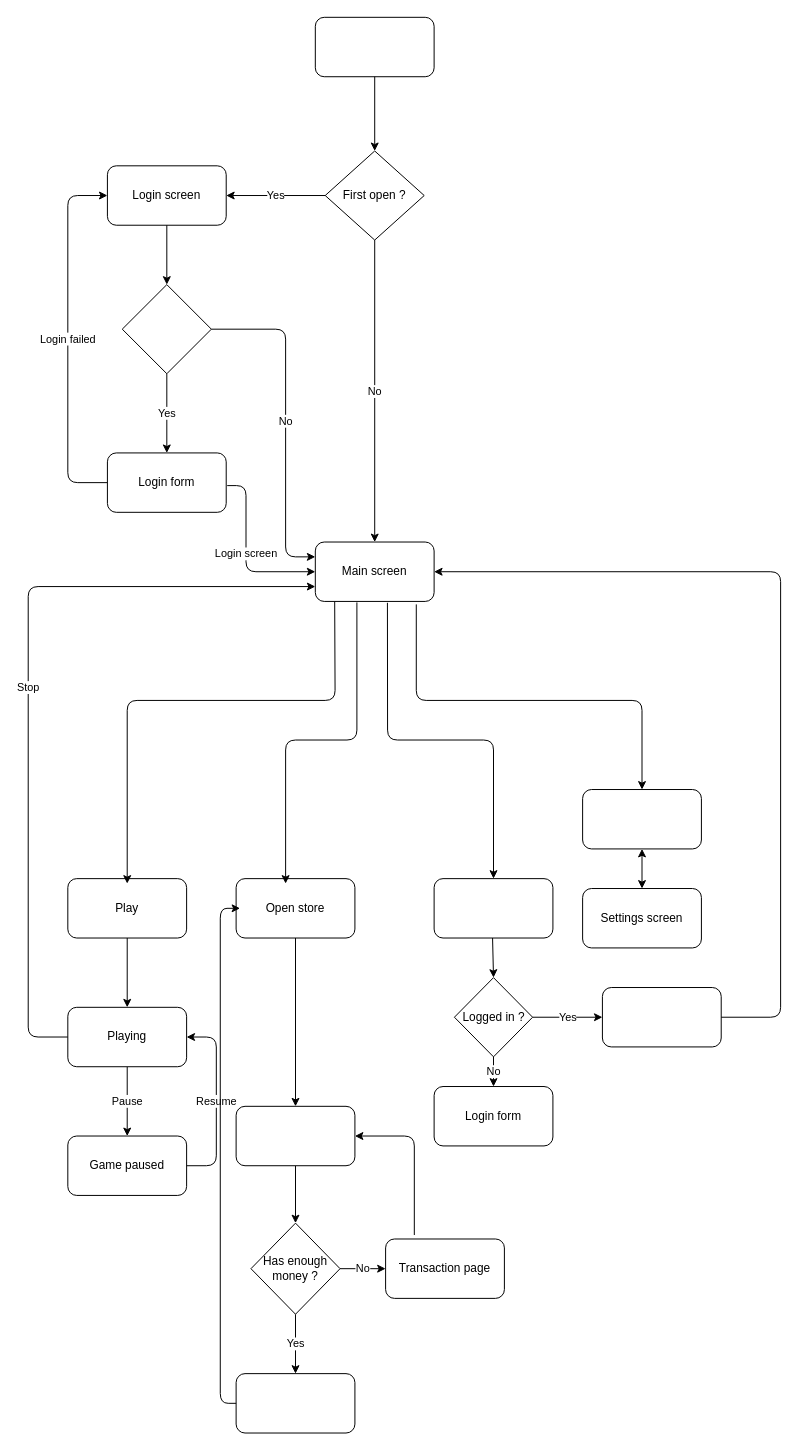
Image size: 806x1450. Some labels were removed from this diagram. Each missing label, with the centre of its shape:
Buy item: the point at 295,1403
Highscore shared: the point at 661,1017
Login with Facebook ?: the point at 166,329
Open app: the point at 374,46
Open settings: the point at 641,819
Selected item: the point at 295,1135
Share highscore: the point at 493,908
